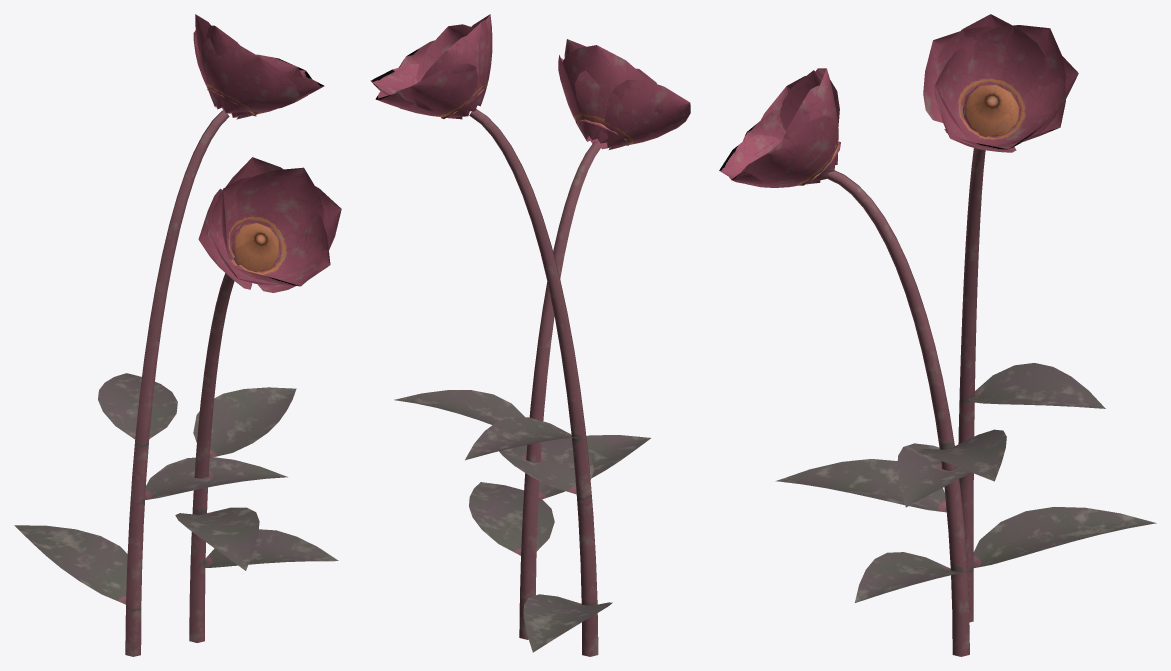
File: SM_Flora_Bloodcap.fbx
The picture shows the model from 3 angles, left to right: view 1: azimuth 30°, elevation 25°; view 2: azimuth 150°, elevation 25°; view 3: azimuth 270°, elevation 25°; orthographic projection. The views are drawn at different scales.
Parts seen in each view (by area): view 1: SM_Flora_Bloodcap; view 2: SM_Flora_Bloodcap; view 3: SM_Flora_Bloodcap.
Part boxes in pixels (<box>): SM_Flora_Bloodcap: <box>14,14,341,656</box>; SM_Flora_Bloodcap: <box>370,14,690,656</box>; SM_Flora_Bloodcap: <box>719,14,1156,656</box>.
Size of the model in its own units: 27.36 by 39.33 by 65.
